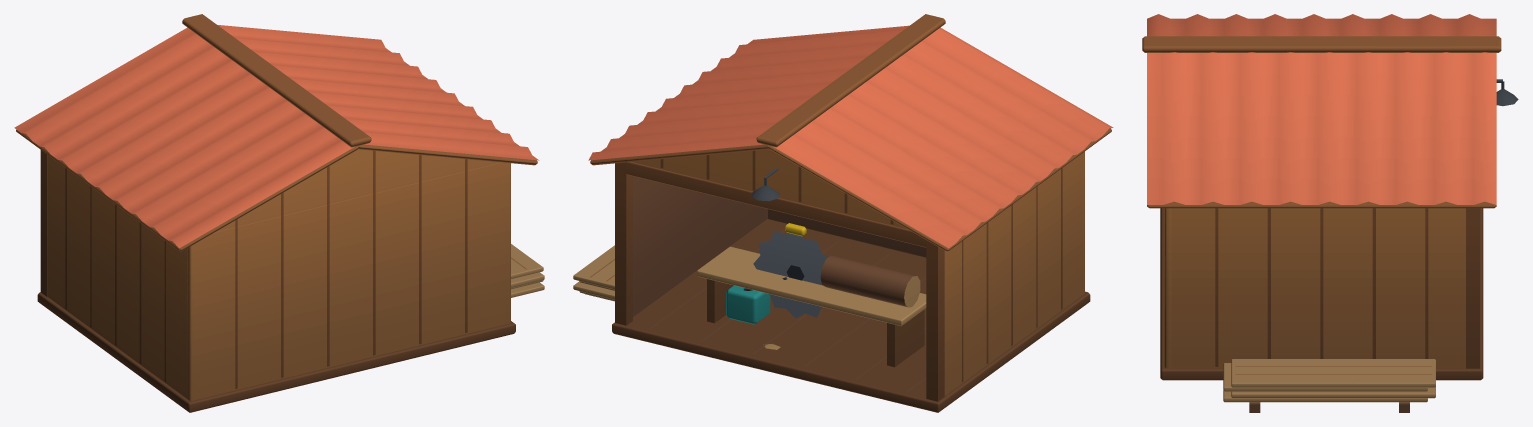
File: shed.glb
The picture shows the model from 3 angles, left to right: view 1: azimuth 30°, elevation 25°; view 2: azimuth 150°, elevation 25°; view 3: azimuth 270°, elevation 25°; orthographic projection. The views are drawn at different scales.
Visible parts, largest first — view 1: shed Warm wood, shed Terracotta, shed Dark wood, shed Pale wood; view 2: shed Terracotta, shed Dark wood, shed Warm wood, shed Bark, shed Pale wood, shed Steel, shed Teal, shed Gunmetal; view 3: shed Terracotta, shed Warm wood, shed Dark wood, shed Pale wood, shed Gunmetal.
Part boxes in pixels (bbox=[...]): shed Warm wood: bbox=[48, 149, 526, 400]; shed Terracotta: bbox=[14, 25, 539, 248]; shed Dark wood: bbox=[16, 14, 537, 412]; shed Pale wood: bbox=[511, 244, 544, 297]; shed Terracotta: bbox=[588, 25, 1113, 248]; shed Dark wood: bbox=[590, 14, 1111, 412]; shed Warm wood: bbox=[590, 149, 1084, 395]; shed Bark: bbox=[585, 176, 926, 391]; shed Pale wood: bbox=[573, 245, 926, 349]; shed Steel: bbox=[753, 230, 827, 318]; shed Teal: bbox=[726, 285, 770, 324]; shed Gunmetal: bbox=[743, 168, 804, 290]; shed Terracotta: bbox=[1147, 14, 1496, 204]; shed Warm wood: bbox=[1164, 208, 1465, 374]; shed Dark wood: bbox=[1142, 36, 1501, 380]; shed Pale wood: bbox=[1223, 359, 1435, 402]; shed Gunmetal: bbox=[1496, 79, 1518, 106].
Size of the model in its own units: 6.32 by 3.6 by 4.78.
10 materials, 9 textured.
